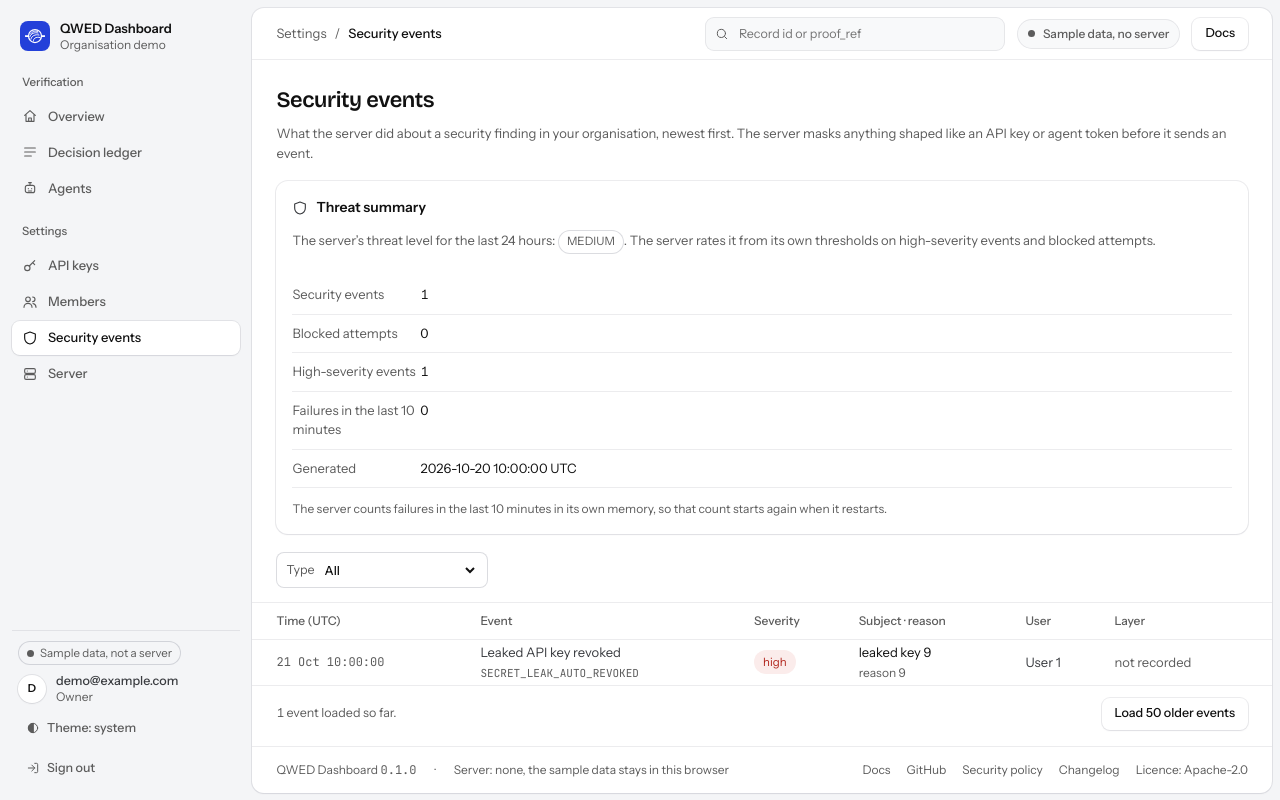
Test: SecurityEventsPage › shows one alert when older events cannot be loaded
Expected: the text "leaked key 9" is shown, [859,644,932,660]
Click the button "Load 50 older events" at (1175, 714), box [1102,698,1248,730]
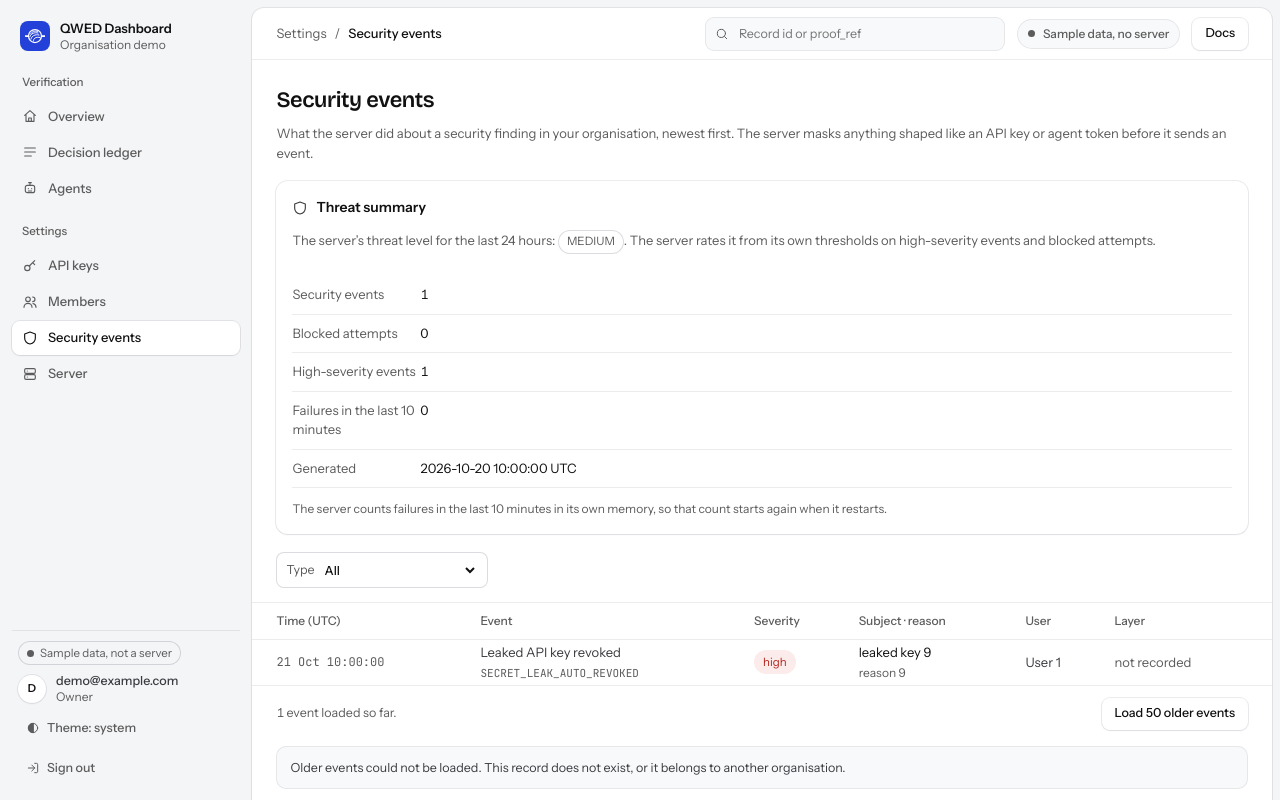
Expected: the number of messages is 1, [276,746,1248,789]
Expected: the message shows "Older events could not be loaded", [290,760,484,775]
